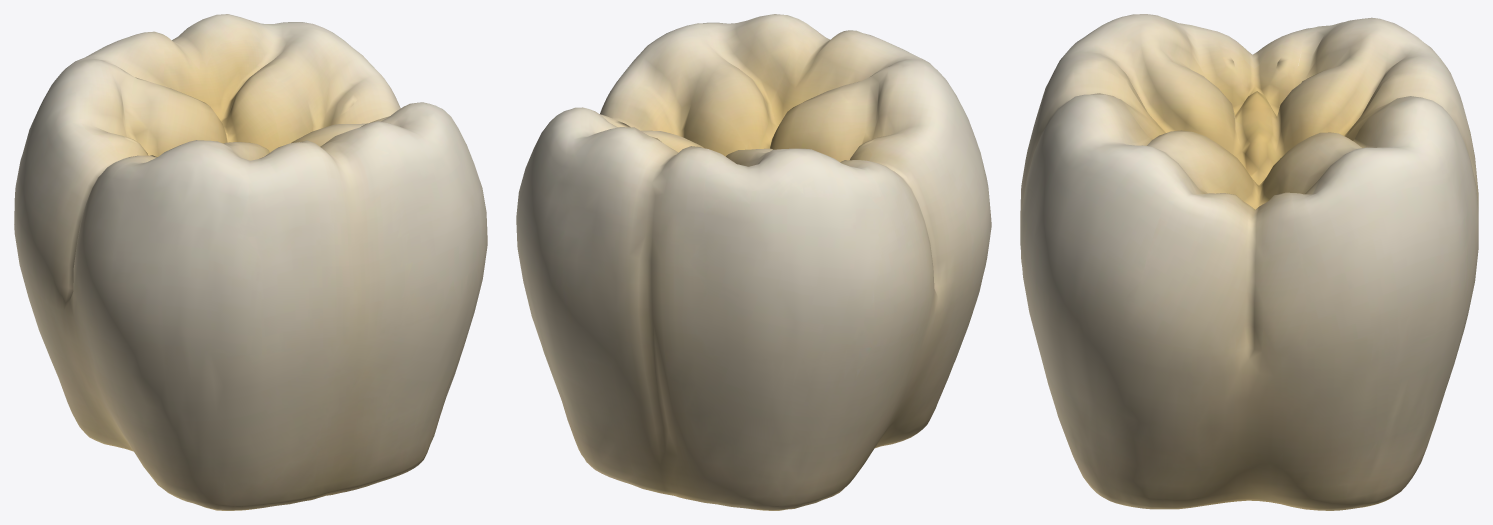
The model's file is dental-crown.glb.
3 views of the same model, side by side, from view 1: azimuth 30°, elevation 25°; view 2: azimuth 150°, elevation 25°; view 3: azimuth 270°, elevation 25° (orthographic). The views are drawn at different scales.
Parts seen in each view (by area): view 1: tripo_node_73365b0a-c392-4b78-b3fd-e5f3682cc9e0; view 2: tripo_node_73365b0a-c392-4b78-b3fd-e5f3682cc9e0; view 3: tripo_node_73365b0a-c392-4b78-b3fd-e5f3682cc9e0.
Part boxes in pixels (x1,y1,x2,y2): tripo_node_73365b0a-c392-4b78-b3fd-e5f3682cc9e0: (14,14,487,510); tripo_node_73365b0a-c392-4b78-b3fd-e5f3682cc9e0: (516,14,991,510); tripo_node_73365b0a-c392-4b78-b3fd-e5f3682cc9e0: (1020,14,1478,510).
Size of the model in its own units: 0.9941 by 0.9121 by 0.998.
1 material, 1 textured.
